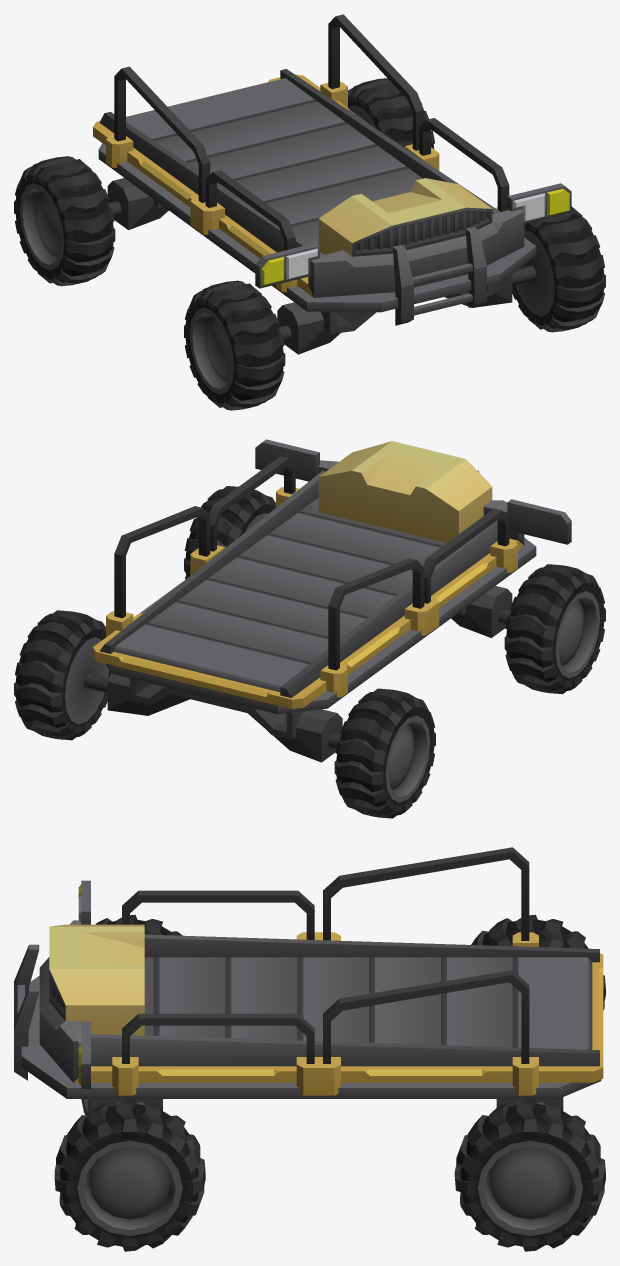
The model's file is Loader.fbx.
The picture shows the model from 3 angles, top to bottom: view 1: azimuth 30°, elevation 25°; view 2: azimuth 150°, elevation 25°; view 3: azimuth 270°, elevation 25°; orthographic projection. The views are drawn at different scales.
Parts seen in each view (by area): view 1: Loader, FrontWheels, BackWheels; view 2: Loader, BackWheels, FrontWheels; view 3: Loader, BackWheels, FrontWheels.
Boxes of the visible parts, x1=… form: Loader: x1=93, y1=14, x2=571, y2=354; FrontWheels: x1=184, y1=206, x2=605, y2=410; BackWheels: x1=14, y1=78, x2=434, y2=286; Loader: x1=93, y1=439, x2=571, y2=762; BackWheels: x1=14, y1=610, x2=435, y2=818; FrontWheels: x1=184, y1=486, x2=605, y2=694; Loader: x1=14, y1=847, x2=603, y2=1115; BackWheels: x1=454, y1=914, x2=605, y2=1251; FrontWheels: x1=54, y1=914, x2=205, y2=1251.
Bounding box in the file's own units: 204 × 108 × 240.
